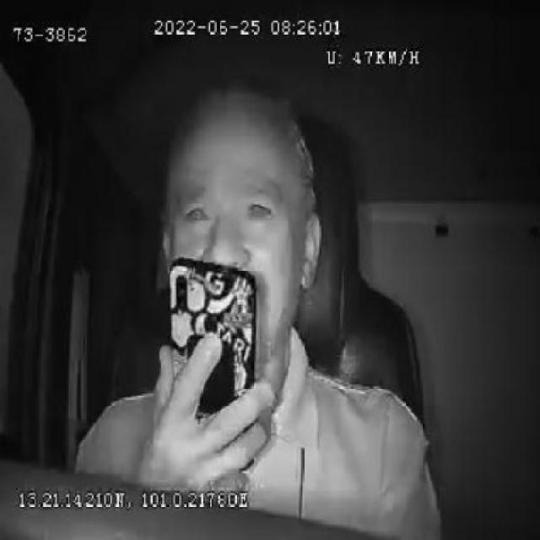phone: (168, 260, 254, 464)
